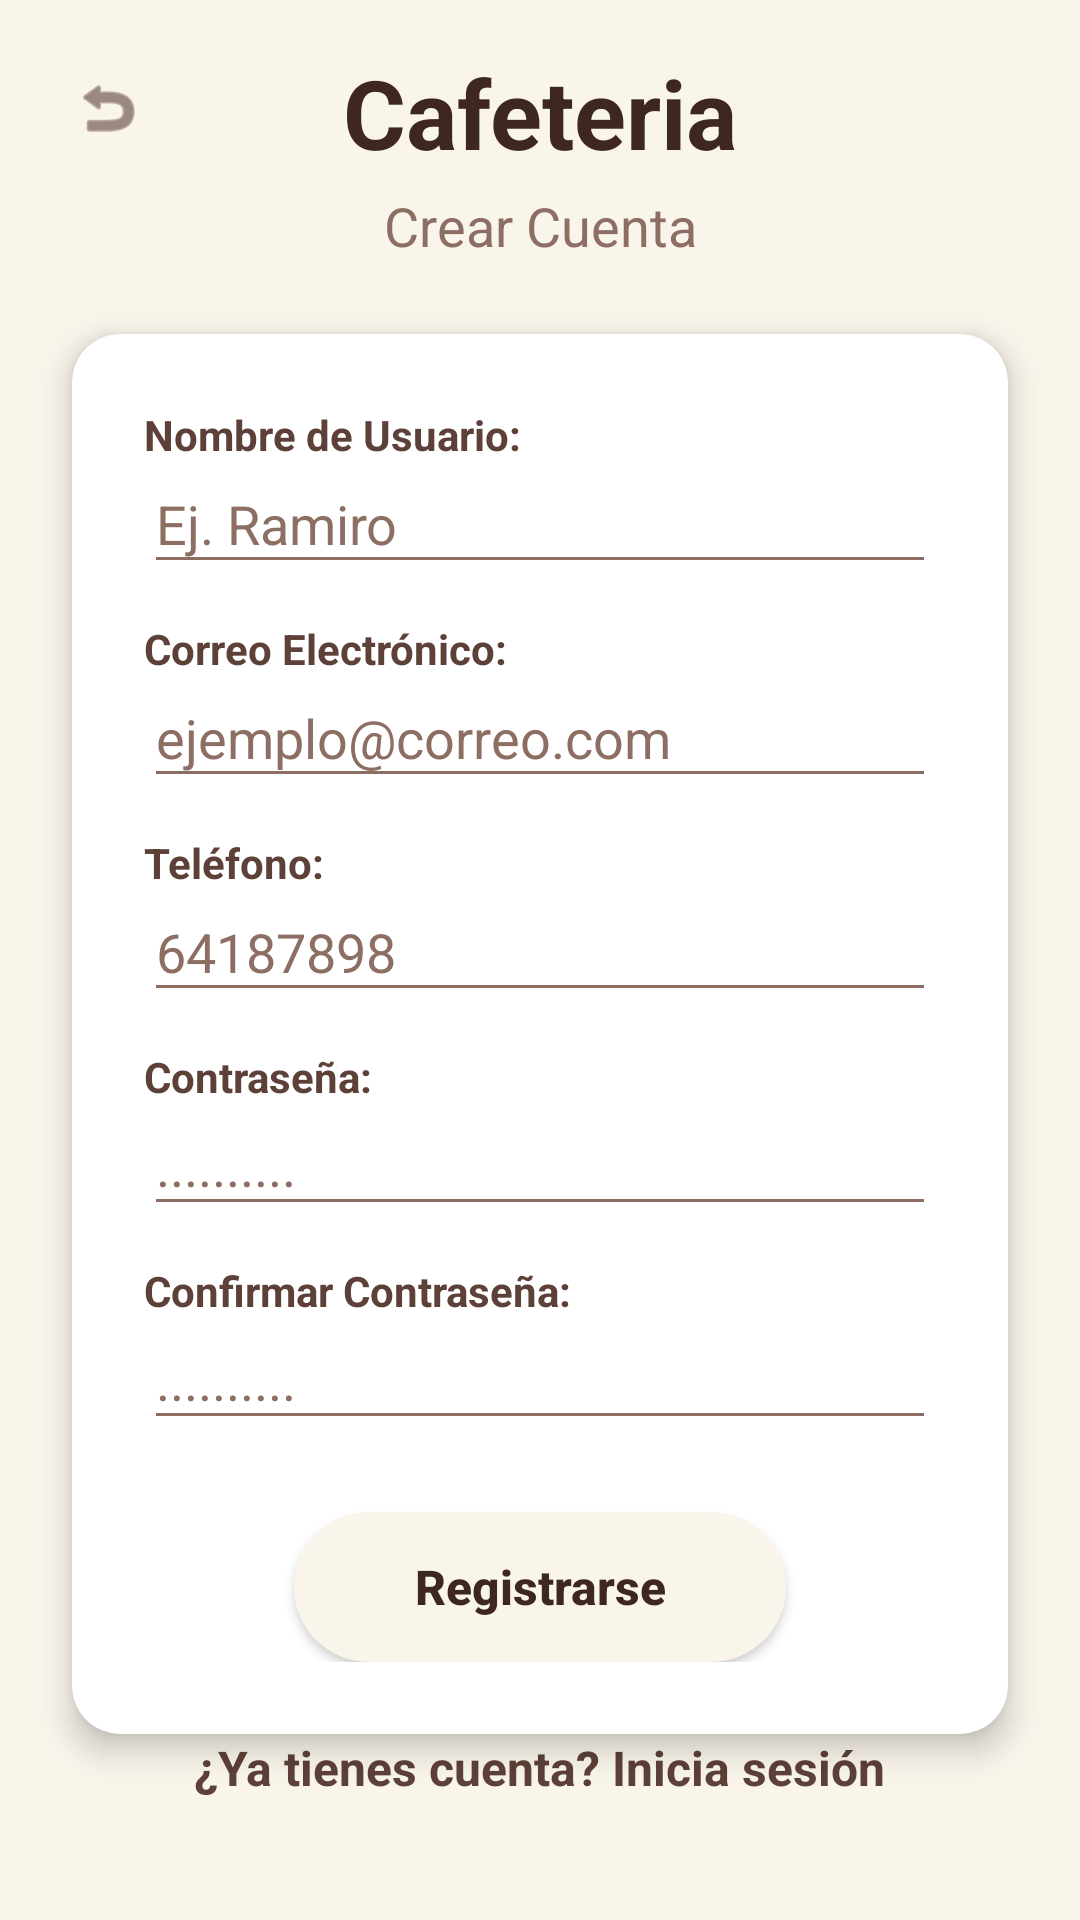

Named icons in this screenshot (1080×1920) and their bounding boxes, (x1, y1, x2, y2):
Volver atrás: (83, 85, 135, 132)
